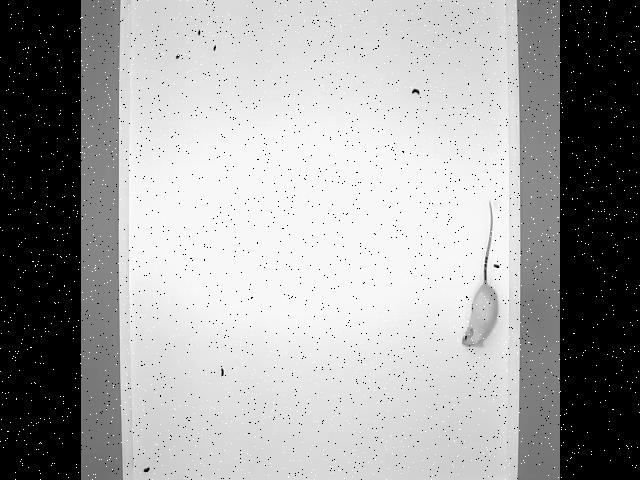Tikus: (460, 201, 500, 348)
